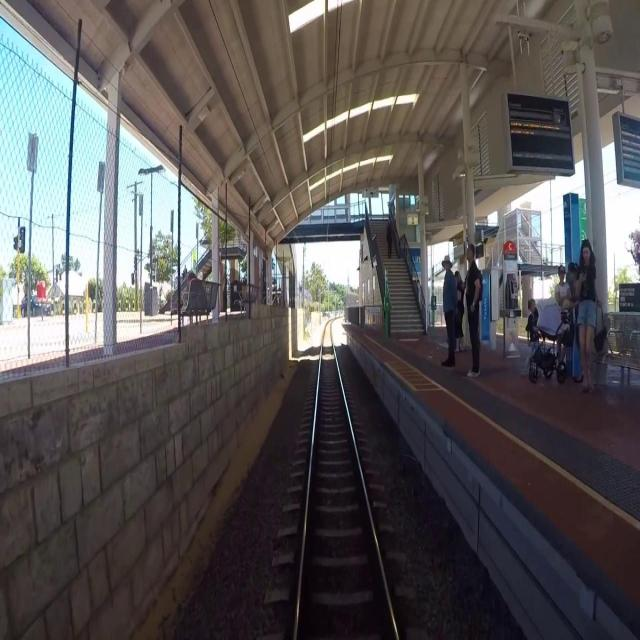car: (22, 296, 53, 319)
other-vehicles: (531, 300, 572, 385)
person: (577, 237, 603, 394), (465, 244, 486, 377), (567, 263, 586, 382), (442, 254, 459, 367), (556, 264, 572, 373), (524, 300, 543, 374), (455, 272, 468, 358), (189, 272, 209, 327), (387, 218, 395, 262)
